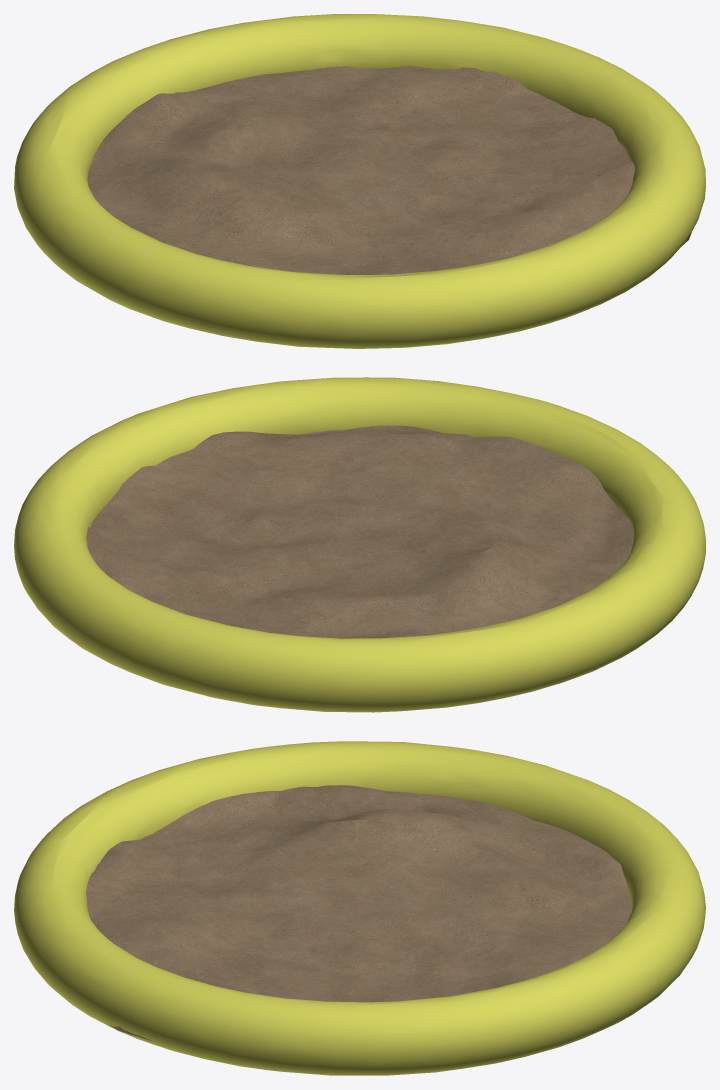
File: sand_LODs.fbx
3 views of the same model, one above another, from view 1: azimuth 30°, elevation 25°; view 2: azimuth 150°, elevation 25°; view 3: azimuth 270°, elevation 25° (orthographic).
Parts seen in each view (by area): view 1: sand_LOD0; view 2: sand_LOD0; view 3: sand_LOD0.
Boxes of the visible parts, left/top/right/bottom form: sand_LOD0: left=14, top=14, right=705, bottom=348; sand_LOD0: left=14, top=377, right=705, bottom=712; sand_LOD0: left=14, top=741, right=705, bottom=1075.
Size of what is drawn, in the model's own units: 944 by 101 by 944.
Materials: 2 (1 with a texture image).
